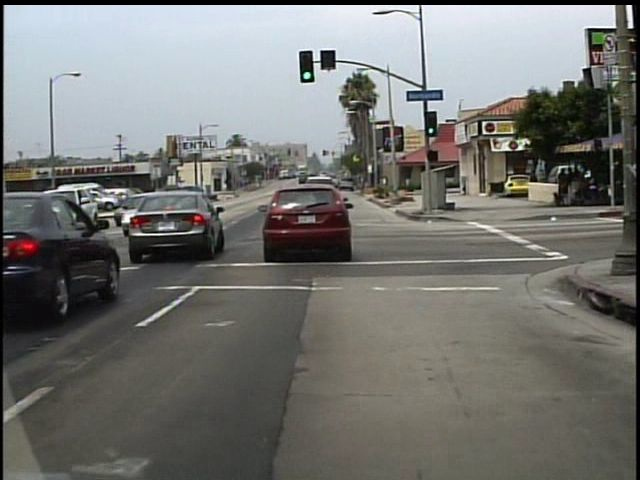person: (526, 166, 541, 202)
